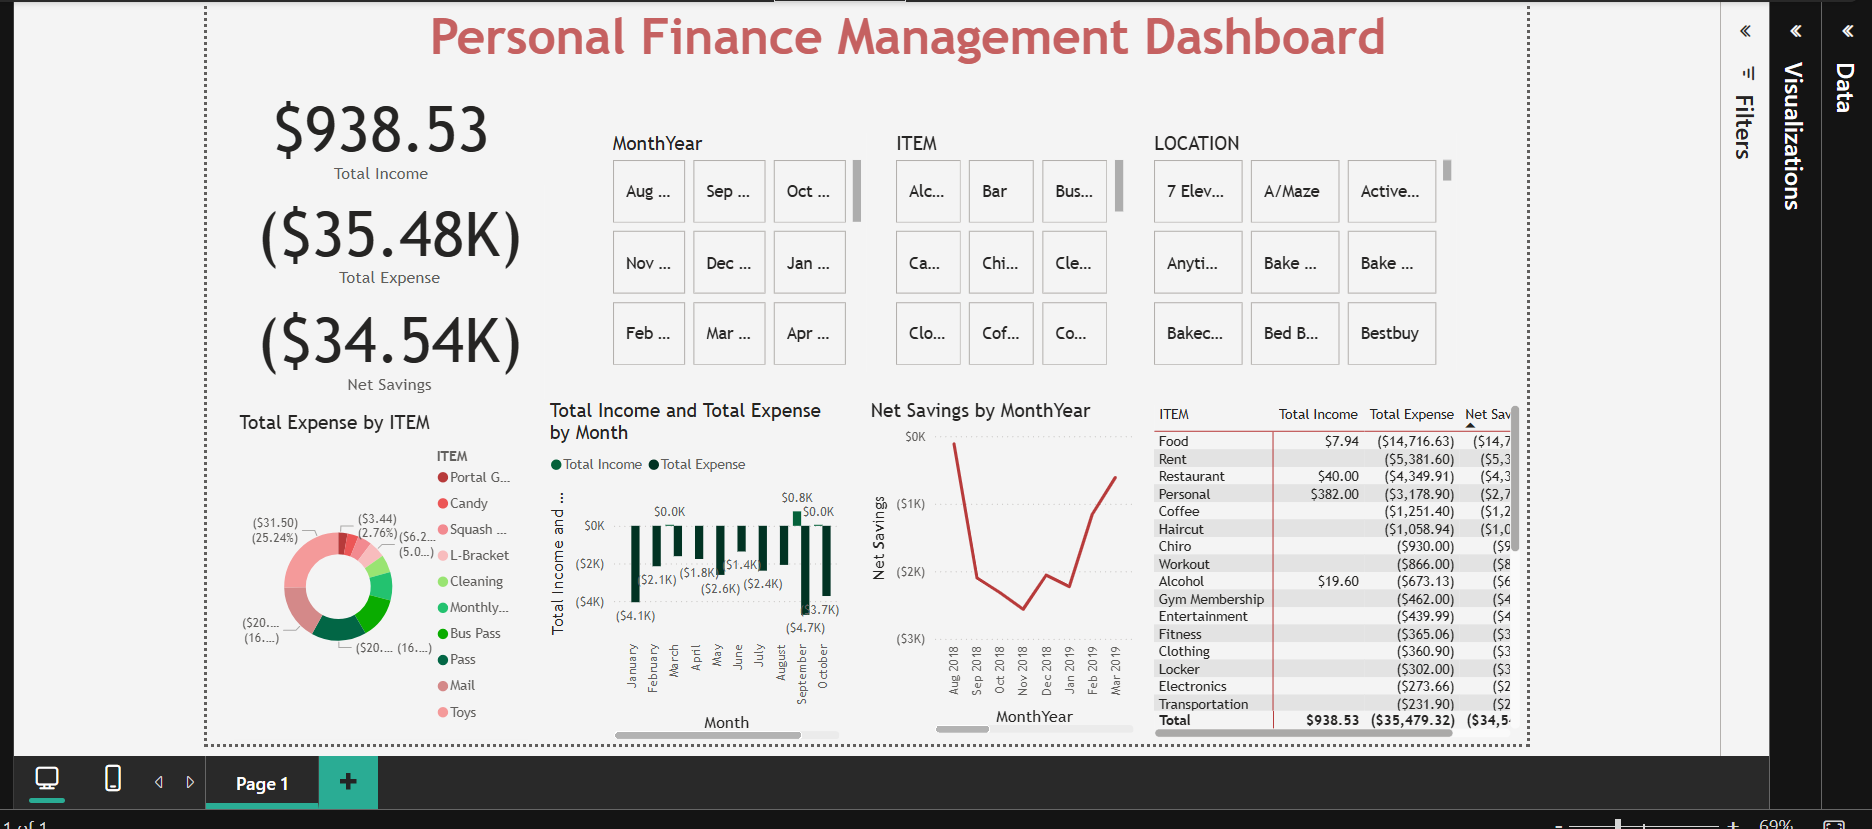

The page's visual inventory and layout, read from the dashboard file:
{"tool":"powerbi","page":{"name":"Page 1","canvas":[1280,720],"ordinal":0},"visuals":[{"type":"pivotTable","fields":{"Rows":["Finance_Data xlsx.ITEM"],"Values":["Finance_Data xlsx.Total Income","Finance_Data xlsx.Total Expense","Finance_Data xlsx.Net Savings"]},"box":[914.6,386.1,364.9,333.1],"z":0},{"type":"clusteredColumnChart","fields":{"Category":["Finance_Data xlsx.DATE.Variation.Date Hierarchy.Month","Finance_Data xlsx.DATE.Variation.Date Hierarchy.Day"],"Y":["Finance_Data xlsx.Total Income","Finance_Data xlsx.Total Expense"]},"box":[326.9,385.5,291,334.5],"z":1},{"type":"lineChart","fields":{"Category":["Finance_Data xlsx.MonthYear"],"Y":["Finance_Data xlsx.Net Savings"]},"box":[639,386.1,265,328.6],"z":2},{"type":"donutChart","fields":{"Category":["Finance_Data xlsx.ITEM"],"Y":["Finance_Data xlsx.Total Expense"]},"box":[25.7,396.7,284.7,318],"z":3},{"type":"advancedSlicerVisual","fields":{"Values":["Finance_Data xlsx.MonthYear"]},"box":[389.3,126.6,251.3,232.4],"z":4},{"type":"advancedSlicerVisual","fields":{"Values":["Finance_Data xlsx.ITEM"]},"box":[663.3,126.6,230.6,232.4],"z":5},{"type":"advancedSlicerVisual","fields":{"Values":["Finance_Data xlsx.LOCATION"]},"box":[914.7,126.6,298.6,232.4],"z":6},{"type":"card","fields":{"Values":["Finance_Data xlsx.Total Income"]},"box":[25.7,78.7,284.7,98.4],"z":7},{"type":"card","fields":{"Values":["Finance_Data xlsx.Total Expense"]},"box":[25.7,177.2,301.3,103],"z":8},{"type":"card","fields":{"Values":["Finance_Data xlsx.Net Savings"]},"box":[25.7,280.1,301.3,106],"z":9},{"type":"textbox","box":[79.4,0,1200,75.6],"z":10}]}

Visuals, with their boxes on the page's 1280x720 design canvas (x1, y1, x2, y2). These are canvas units, not pixel positions in the 1872x829 screenshot, which may show the page scaled, cropped or inside an application window:
pivotTable - Finance_Data xlsx.ITEM x Finance_Data xlsx.Total Income: (915,386,1280,719)
clusteredColumnChart - Finance_Data xlsx.DATE.Variation.Date Hierarchy.Month x Finance_Data xlsx.DATE.Variation.Date Hierarchy.Day: (327,386,618,720)
lineChart - Finance_Data xlsx.MonthYear x Finance_Data xlsx.Net Savings: (639,386,904,715)
donutChart - Finance_Data xlsx.ITEM x Finance_Data xlsx.Total Expense: (26,397,310,715)
advancedSlicerVisual - Finance_Data xlsx.MonthYear: (389,127,641,359)
advancedSlicerVisual - Finance_Data xlsx.ITEM: (663,127,894,359)
advancedSlicerVisual - Finance_Data xlsx.LOCATION: (915,127,1213,359)
card - Finance_Data xlsx.Total Income: (26,79,310,177)
card - Finance_Data xlsx.Total Expense: (26,177,327,280)
card - Finance_Data xlsx.Net Savings: (26,280,327,386)
textbox: (79,0,1279,76)
